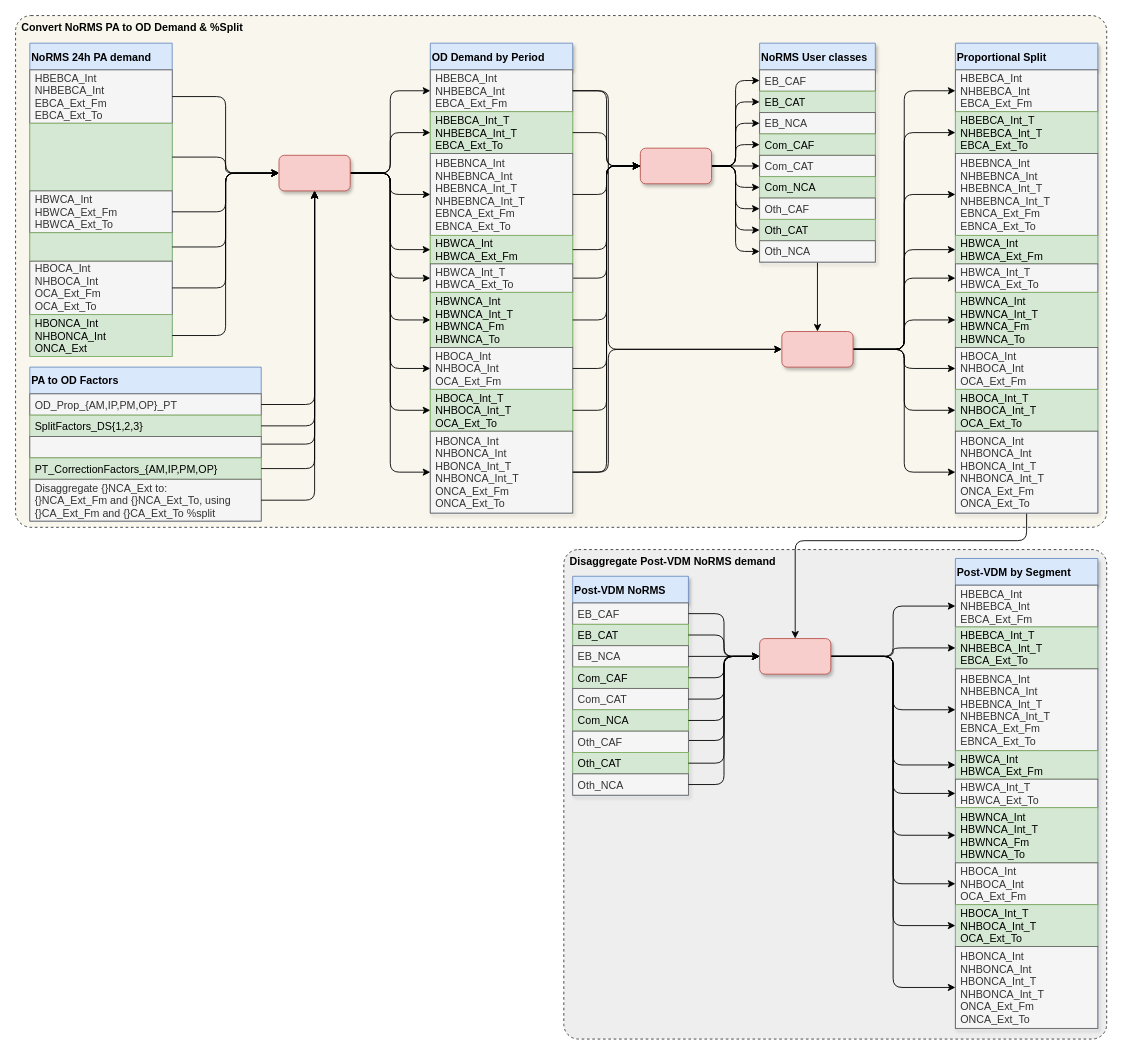
The diagram is 1122 pixels wide and 1055 high, and some of its shapes have lost their labels. Each missing label, with the centre of its shape:
Aggregate to User classes: point 676,167
Apply %split: point 795,657
Calculate %split: point 817,350
Convert PA to OD: point 315,174
HBEBNCA_Int NHBEBNCA_Int EBCA_Ext_Fm EBCA_Ext_To EBNCA_Ext: point 100,156
HBWNCA_Int HBWNCA_Ext: point 100,246
Time_Of_Day_Factors_Zonal_{AM,IP,PM,OP}: point 145,447
